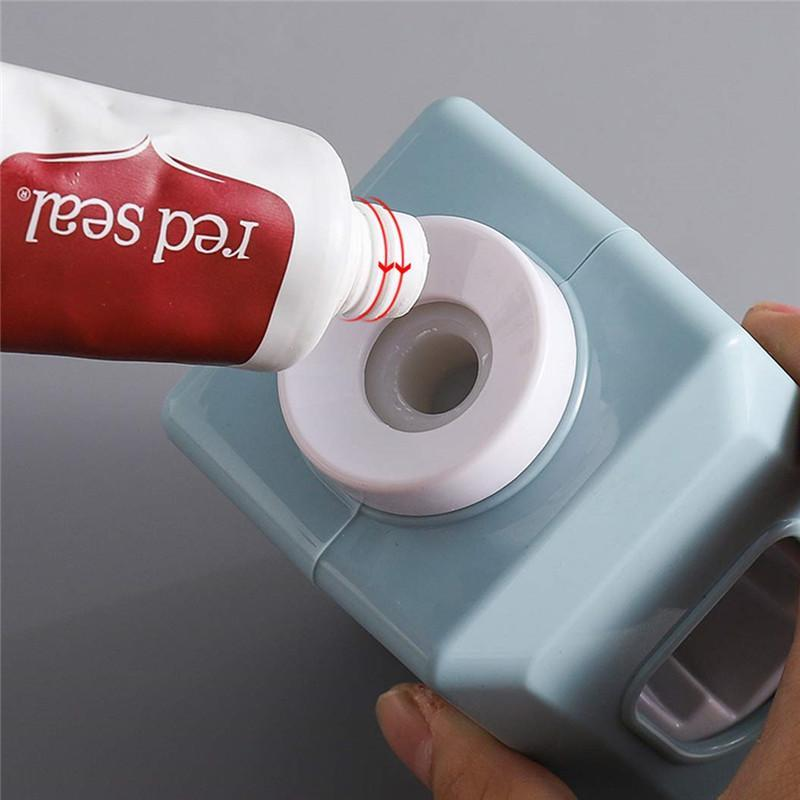toothpaste: (0, 37, 433, 395)
